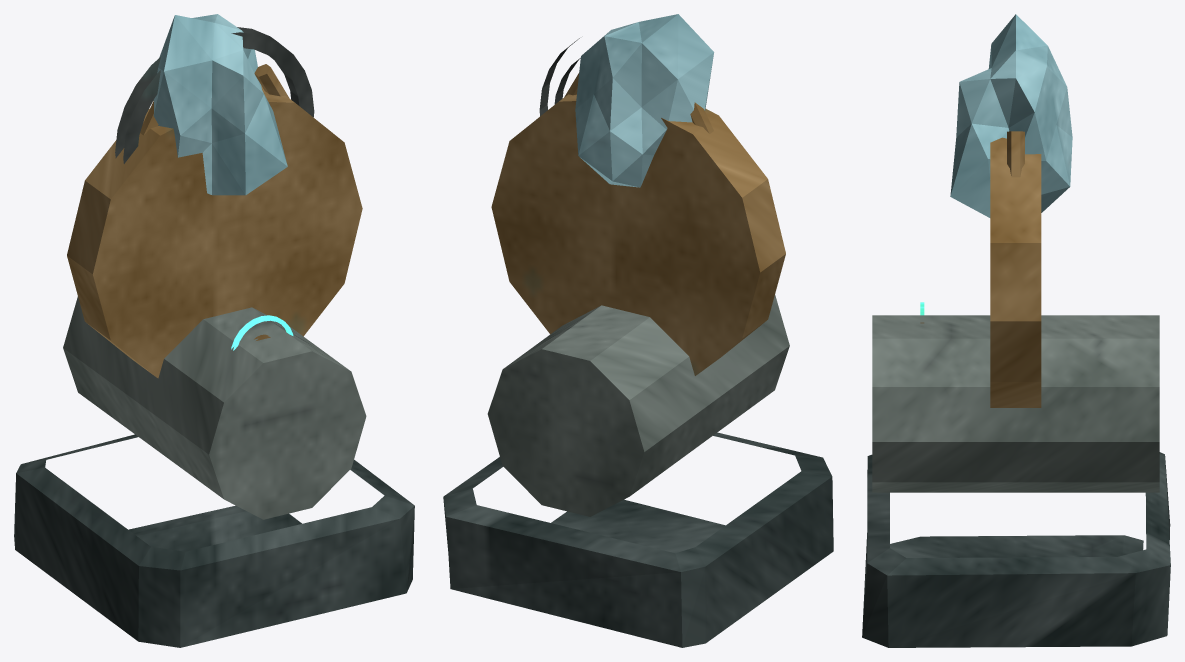
The model's file is 0599_relic_pedestal_24.glb.
3 views of the same model, side by side, from view 1: azimuth 30°, elevation 25°; view 2: azimuth 150°, elevation 25°; view 3: azimuth 270°, elevation 25° (orthographic).
Parts seen in each view (by area): view 1: brass, stone_dark, stone, ice, iron; view 2: brass, stone_dark, stone, ice, iron; view 3: stone, stone_dark, ice, brass.
Part boxes in pixels (x1,y1,x2,y2): brass: (67, 64, 362, 378); stone_dark: (14, 434, 414, 647); stone: (63, 296, 366, 519); ice: (153, 14, 287, 195); iron: (115, 27, 314, 163); brass: (491, 72, 785, 375); stone_dark: (443, 432, 833, 647); stone: (487, 295, 789, 516); ice: (575, 14, 714, 187); iron: (539, 38, 580, 116); stone: (872, 315, 1159, 492); stone_dark: (862, 452, 1170, 647); ice: (950, 14, 1072, 217); brass: (920, 131, 1041, 407).
Size of the model in its own units: 0.9654 by 1.93 by 0.9669.
6 materials, 6 textured.
